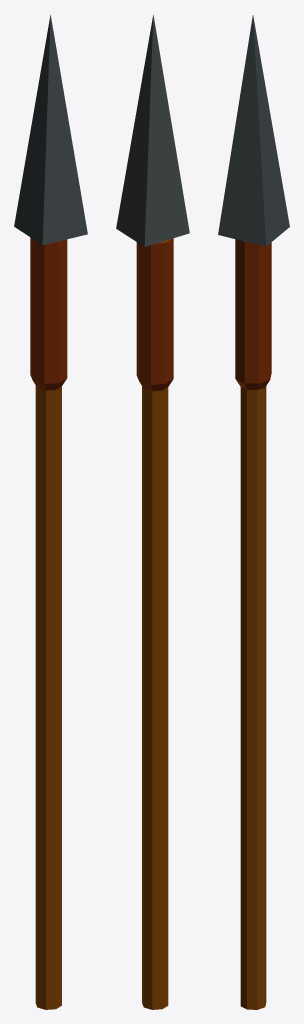
Rendered from Spear3.fbx.
3 views of the same model, side by side, from view 1: azimuth 30°, elevation 25°; view 2: azimuth 210°, elevation 25°; view 3: azimuth 330°, elevation 25° (orthographic).
Visible parts, largest first — view 1: Cylinder.011; view 2: Cylinder.011; view 3: Cylinder.011.
Part boxes in pixels (x1,y1,x2,y2): Cylinder.011: (14, 15, 87, 1009); Cylinder.011: (116, 15, 189, 1009); Cylinder.011: (218, 15, 289, 1009).
Bounding box in the file's own units: 0.0994 × 0.0968 × 1.92.
